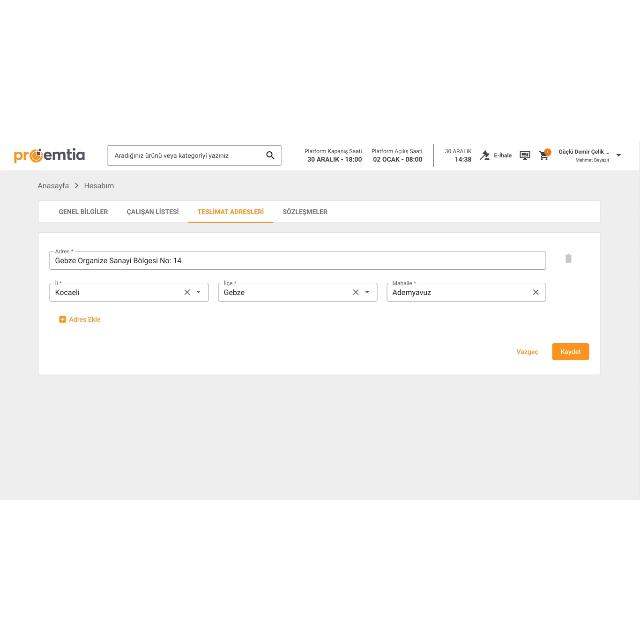QLabel: (196, 207, 264, 216), (304, 146, 362, 154), (56, 206, 110, 214), (371, 146, 424, 154), (307, 156, 363, 162), (126, 208, 180, 214), (558, 148, 610, 154), (373, 155, 423, 161), (281, 208, 329, 214), (69, 315, 101, 323), (444, 146, 472, 154), (574, 156, 610, 162), (515, 348, 539, 356), (493, 151, 513, 159), (559, 348, 583, 354), (454, 156, 472, 162)
VAppBar: (0, 141, 640, 169)
VBadge: (536, 147, 554, 161)
VBreadcrumbs: (36, 177, 118, 191), (36, 180, 116, 190)
VBtn: (552, 341, 590, 361)
VCombobox: (49, 278, 209, 302), (218, 279, 378, 301)
VDivider: (432, 143, 436, 167)
VIcon: (478, 148, 492, 162), (562, 252, 574, 264), (518, 150, 532, 160), (59, 315, 67, 323), (616, 152, 622, 158)
VImg: (9, 146, 87, 162)
VTabs: (35, 198, 603, 378)
VTextField: (49, 248, 547, 270), (106, 144, 282, 166), (386, 279, 546, 301)
